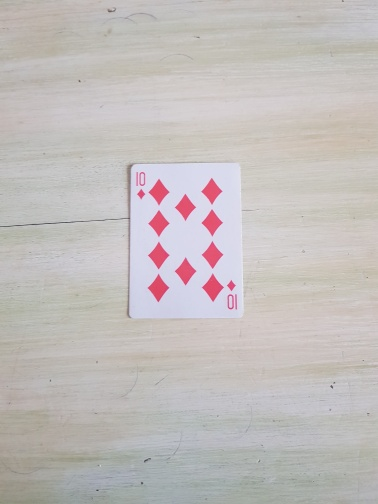ten: (126, 162, 246, 320)
